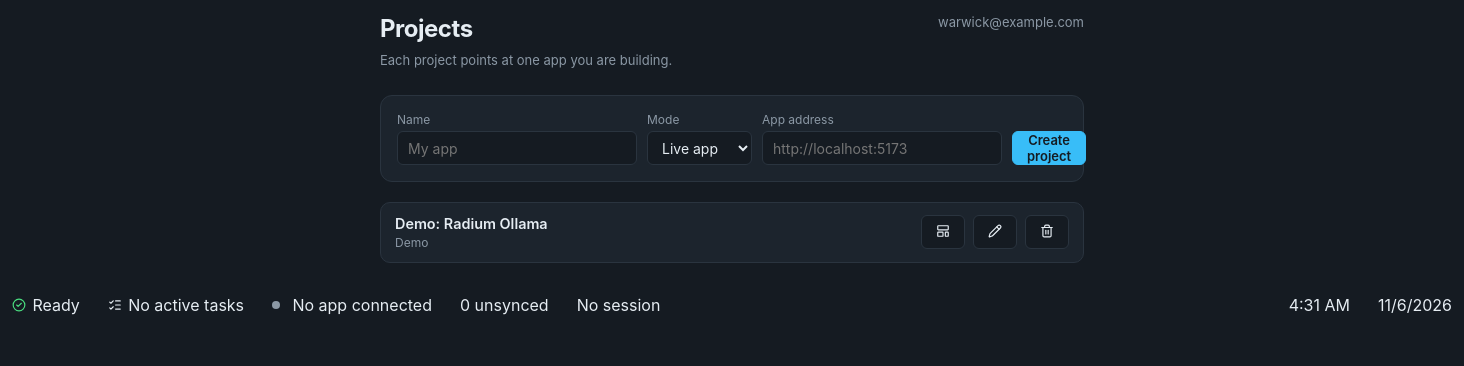
a live project needs an app address
Type "No address" into the field labelled "Name".
click(517, 148); type("No address")  # box [397,131,637,165]
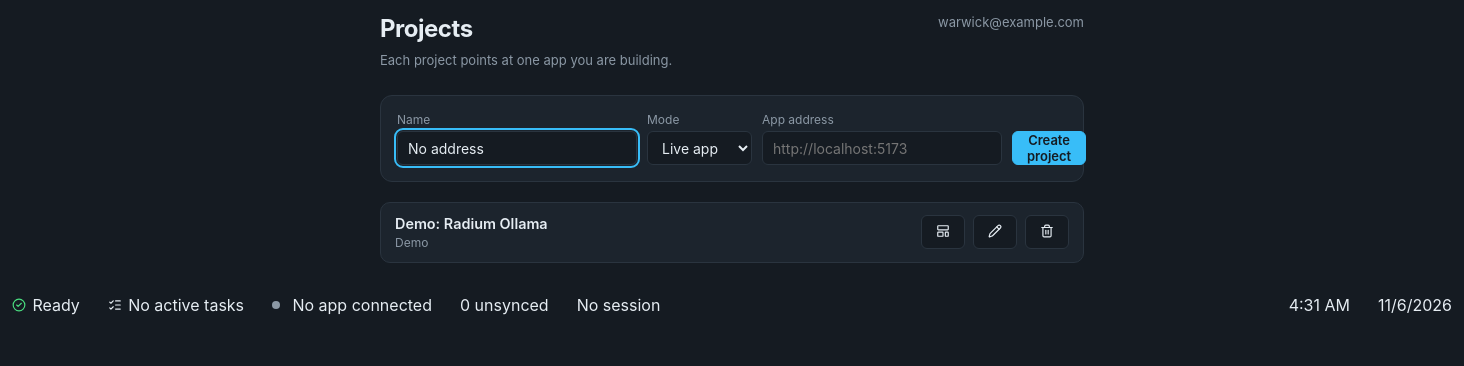
Click the button "Create project".
click(1049, 148)  # box [1012,131,1086,165]
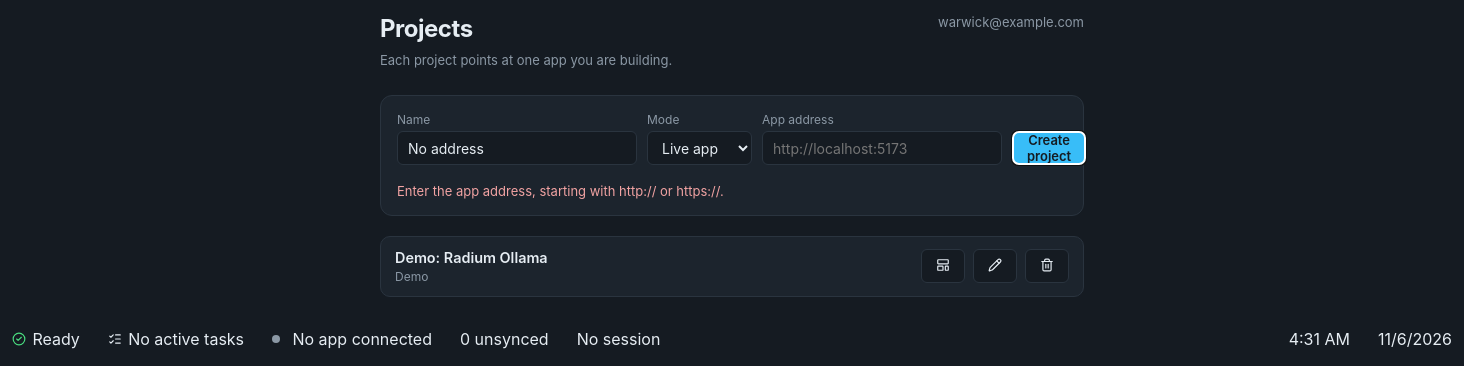
Now the message shows "Enter the app address", box [397,183,724,199]
